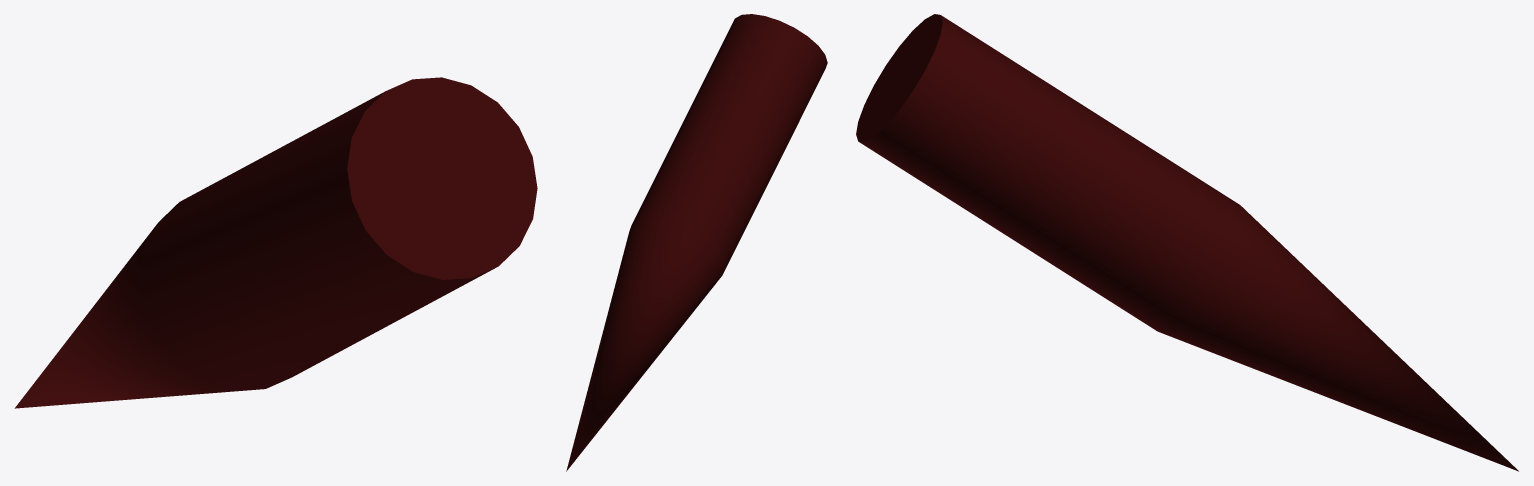
The model's file is e_teil5.obj.
3 renders of one model, left to right at view 1: azimuth 30°, elevation 25°; view 2: azimuth 150°, elevation 25°; view 3: azimuth 270°, elevation 25°, orthographic. The views are drawn at different scales.
Bounding box in the file's own units: 0.2469 × 0.8102 × 1.08.
